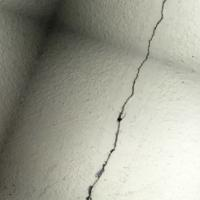crack: (82, 0, 180, 199)
